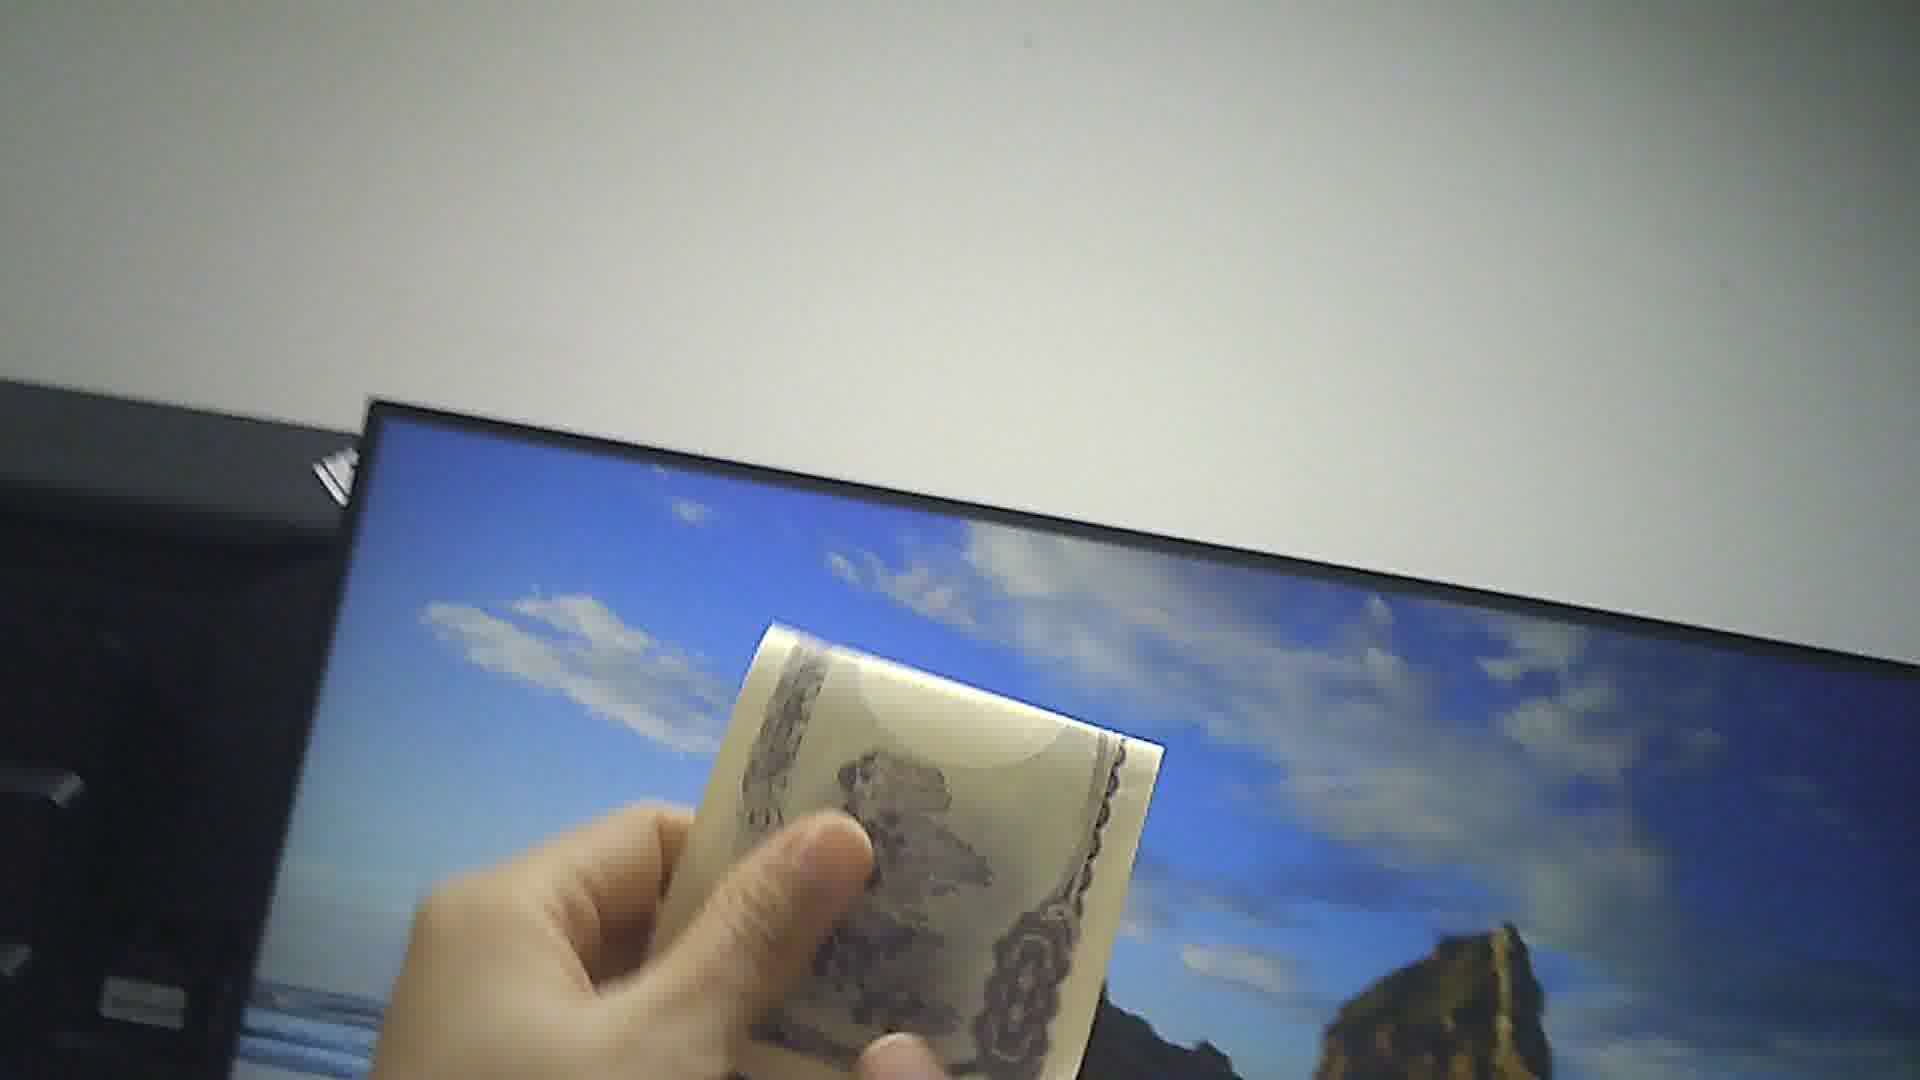5,000 Yen: (647, 618, 1149, 1067)
